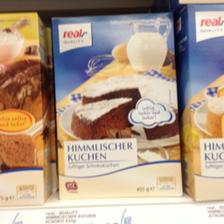Kuchen: (50, 10, 190, 198), (0, 9, 44, 203)
